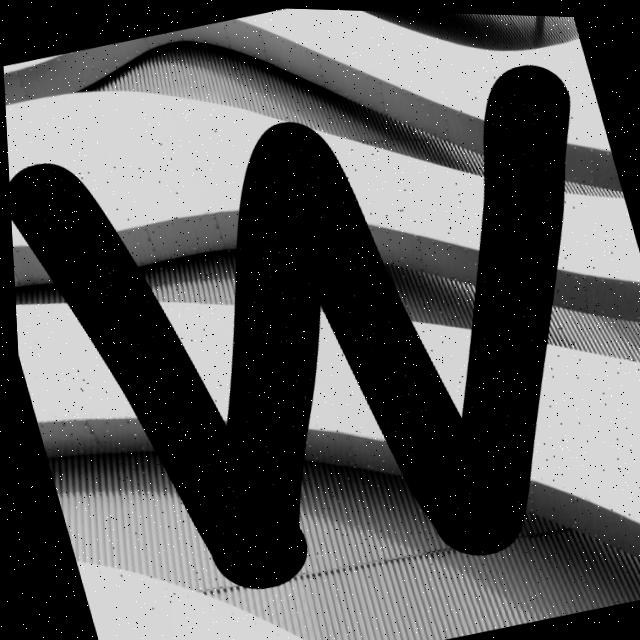W: (7, 62, 569, 586), (7, 62, 568, 586)
